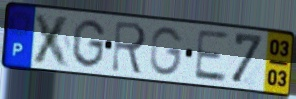7: (232, 31, 265, 86)
E: (192, 27, 230, 84)
G: (69, 18, 107, 70), (149, 26, 185, 78)
R: (109, 19, 149, 77)
X: (30, 11, 74, 70)
